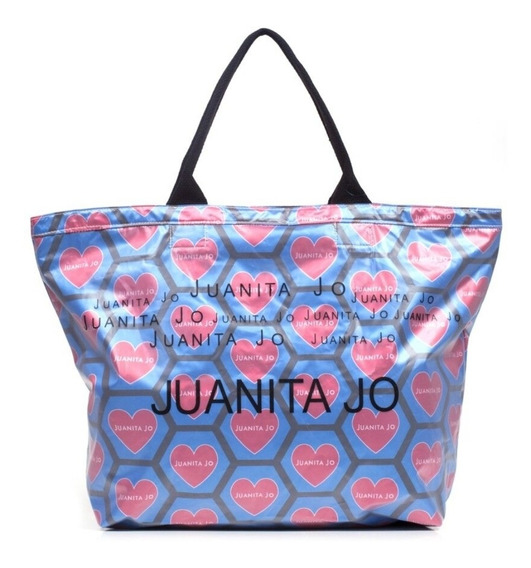cartera: (29, 29, 503, 531)
